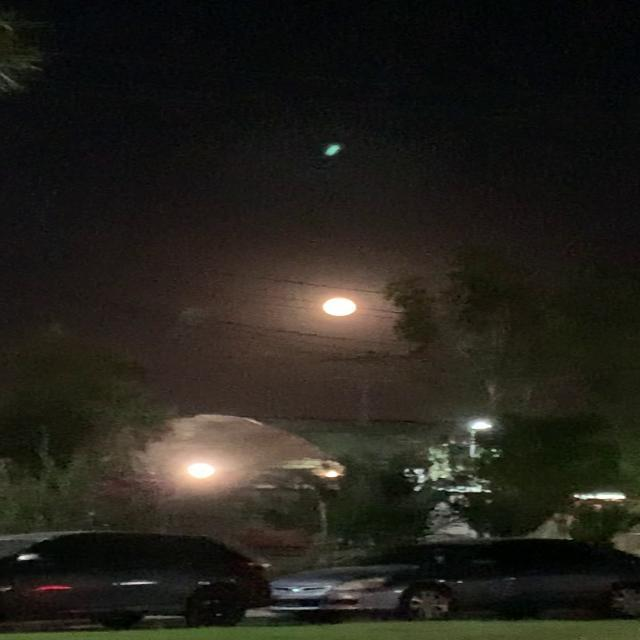moon: (324, 296, 366, 321)
